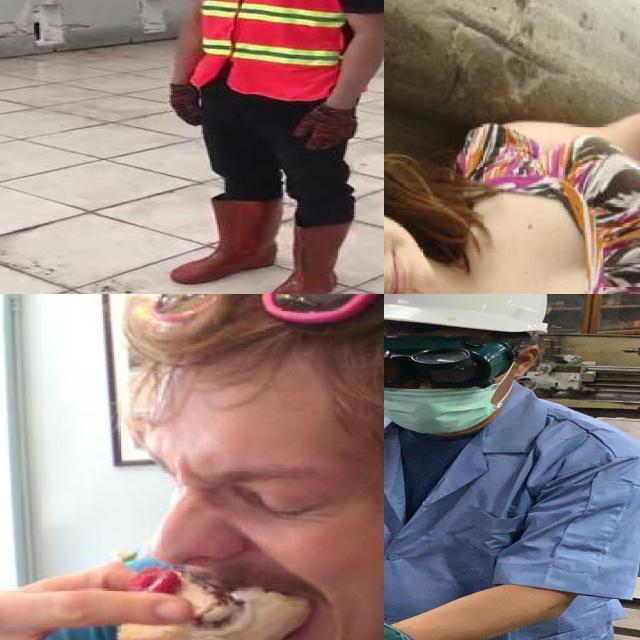No_Ear-Protection: (515, 345, 542, 378)
boots: (169, 197, 281, 284), (259, 223, 348, 294)
face_mask: (384, 383, 499, 434)
face_nomask: (148, 428, 334, 640), (384, 198, 446, 294)
glasses: (147, 294, 384, 434), (384, 336, 517, 388)
hand_glove: (290, 105, 359, 148), (167, 83, 203, 127)
hand_noglove: (0, 570, 198, 640)
head_helmet: (384, 294, 548, 332)
person: (154, 0, 384, 294)
vest: (192, 0, 355, 98)
